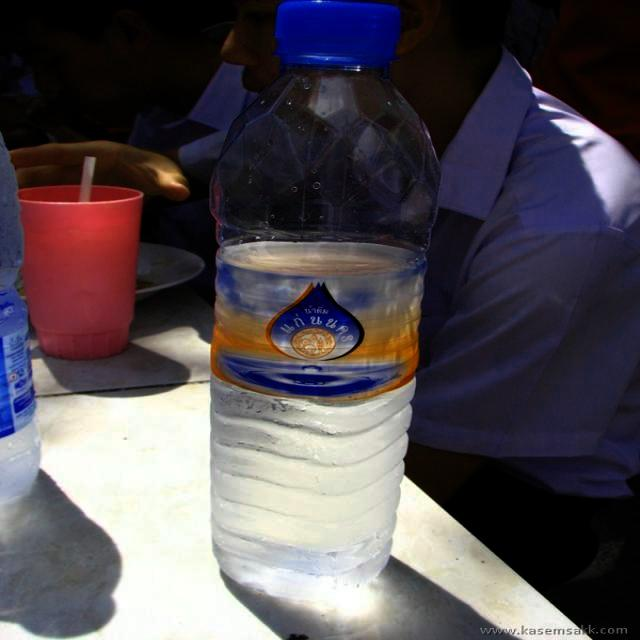bottle: (209, 0, 443, 601), (0, 133, 41, 505)
